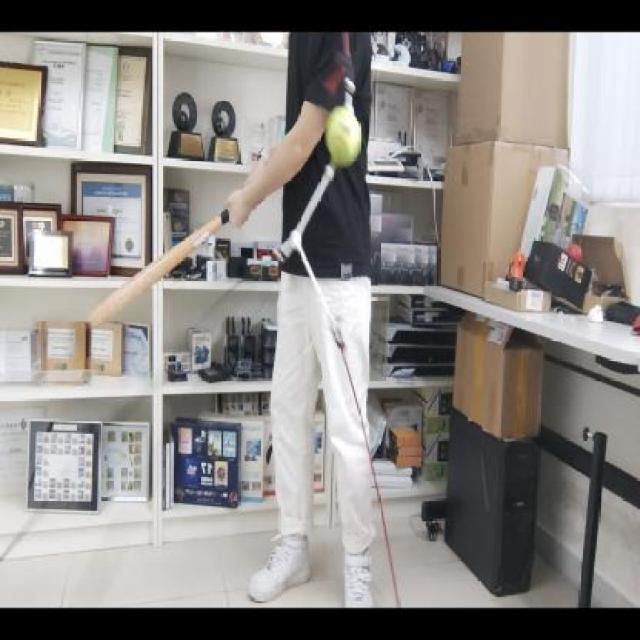baseball: (324, 99, 362, 168)
